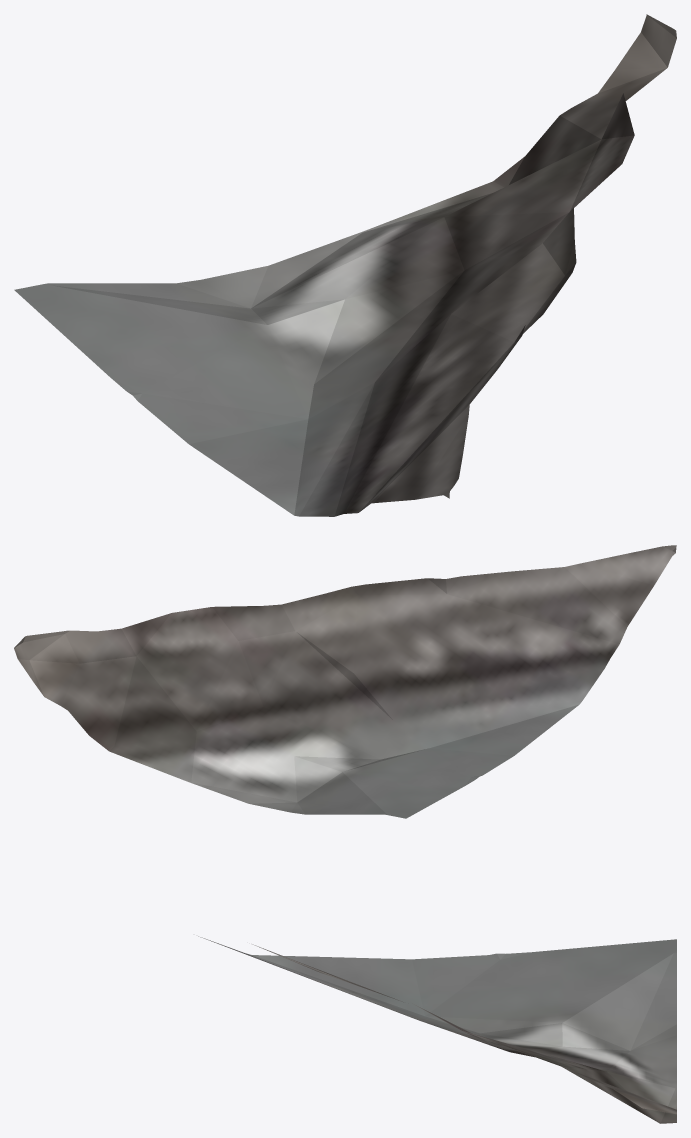
3 renders of one model, top to bottom at view 1: azimuth 30°, elevation 25°; view 2: azimuth 150°, elevation 25°; view 3: azimuth 270°, elevation 25°, orthographic. The views are drawn at different scales.
Size of the model in its own units: 0.2193 by 0.055 by 0.2592.
Materials: 1 (1 with a texture image).
